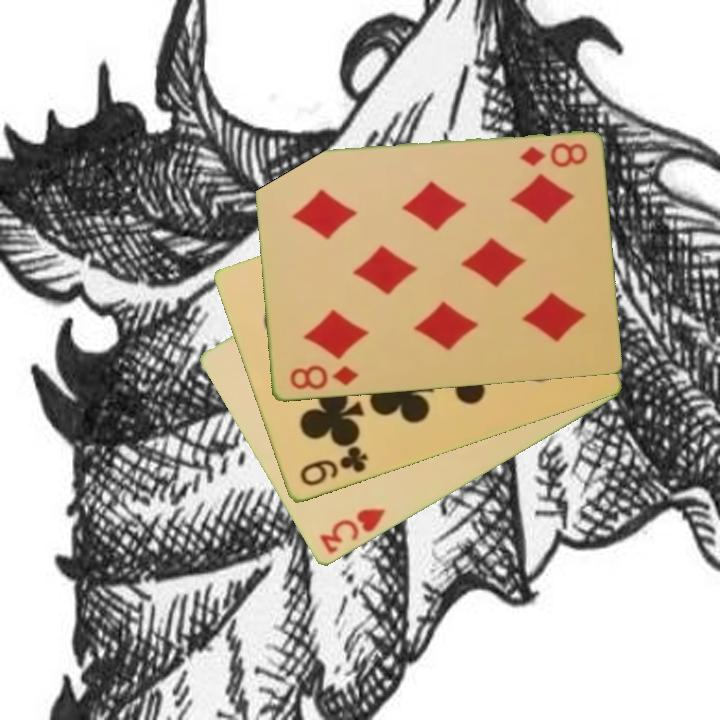3h: (316, 505, 389, 557)
8d: (286, 362, 361, 393), (515, 139, 590, 170)
9c: (295, 443, 371, 490)
